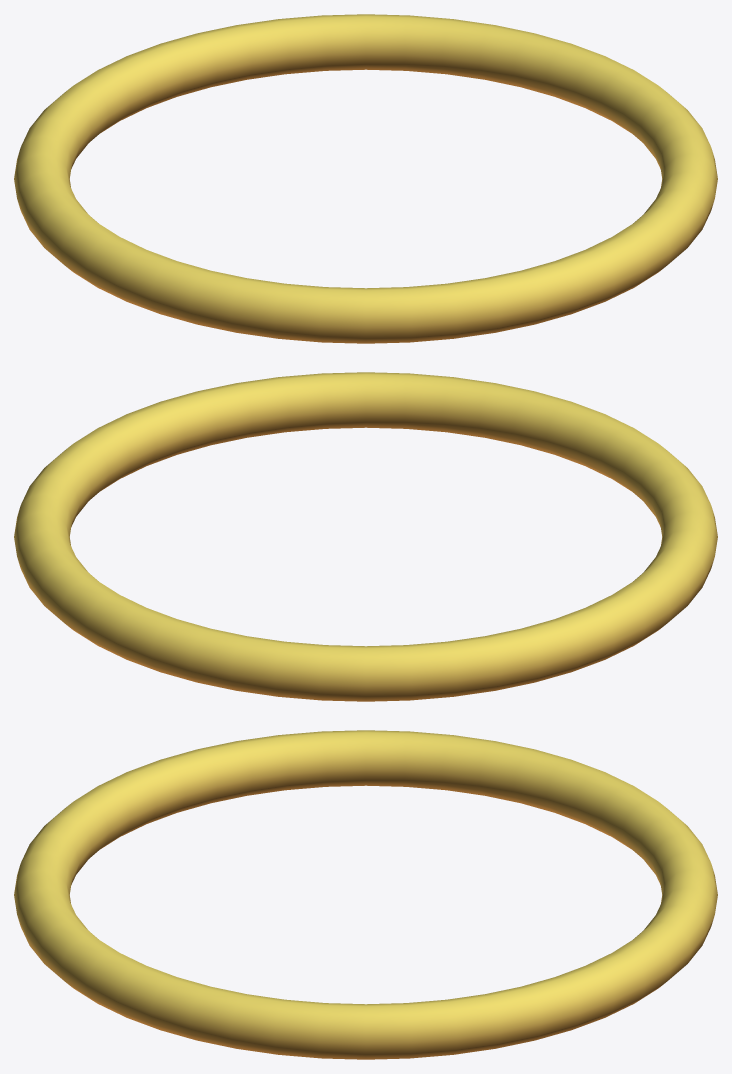
Rendered from Halo.fbx.
3 views of the same model, one above another, from view 1: azimuth 30°, elevation 25°; view 2: azimuth 150°, elevation 25°; view 3: azimuth 270°, elevation 25° (orthographic).
Parts seen in each view (by area): view 1: Halo; view 2: Halo; view 3: Halo.
Boxes of the visible parts, <box> form: Halo: <box>14,14,717,343</box>; Halo: <box>14,372,717,701</box>; Halo: <box>14,730,717,1059</box>.
Size of the model in its own units: 130 by 130 by 10.26.
